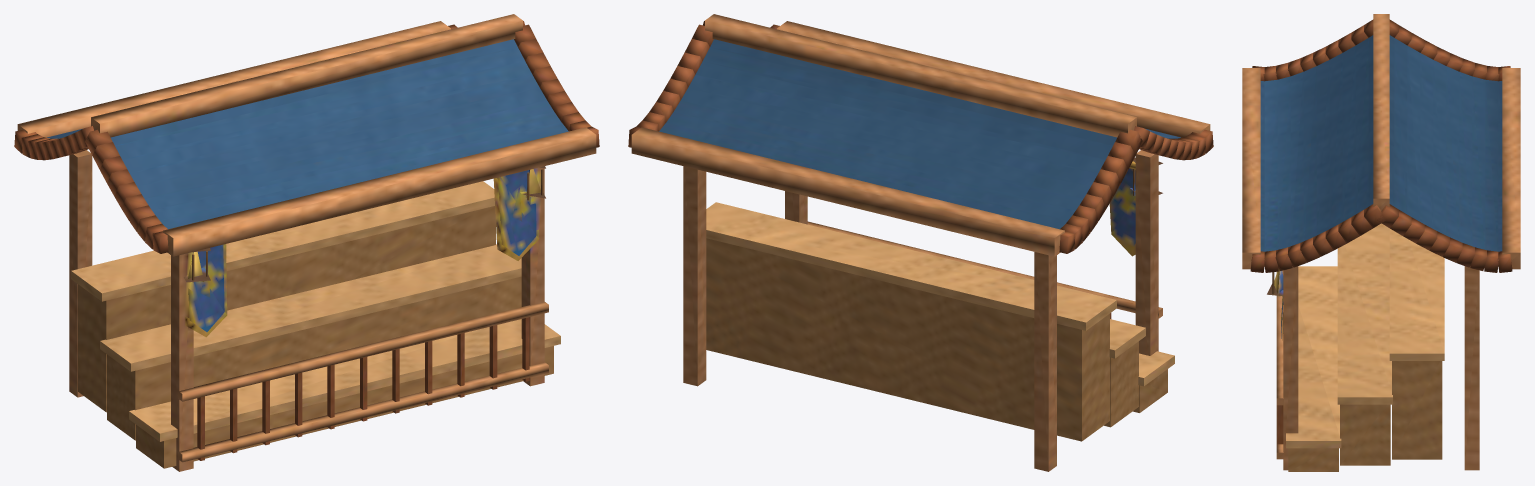
The model's file is race_grandstand.glb.
3 renders of one model, left to right at view 1: azimuth 30°, elevation 25°; view 2: azimuth 150°, elevation 25°; view 3: azimuth 270°, elevation 25°, orthographic. The views are drawn at different scales.
Visible parts, largest first — view 1: Body; view 2: Body; view 3: Body.
Part boxes in pixels (x1,y1,x2,y2): Body: (14, 14, 599, 471); Body: (628, 14, 1213, 471); Body: (1242, 14, 1520, 471).
Bounding box in the file's own units: 3.94 × 2.73 × 2.42.
1 material, 1 textured.
